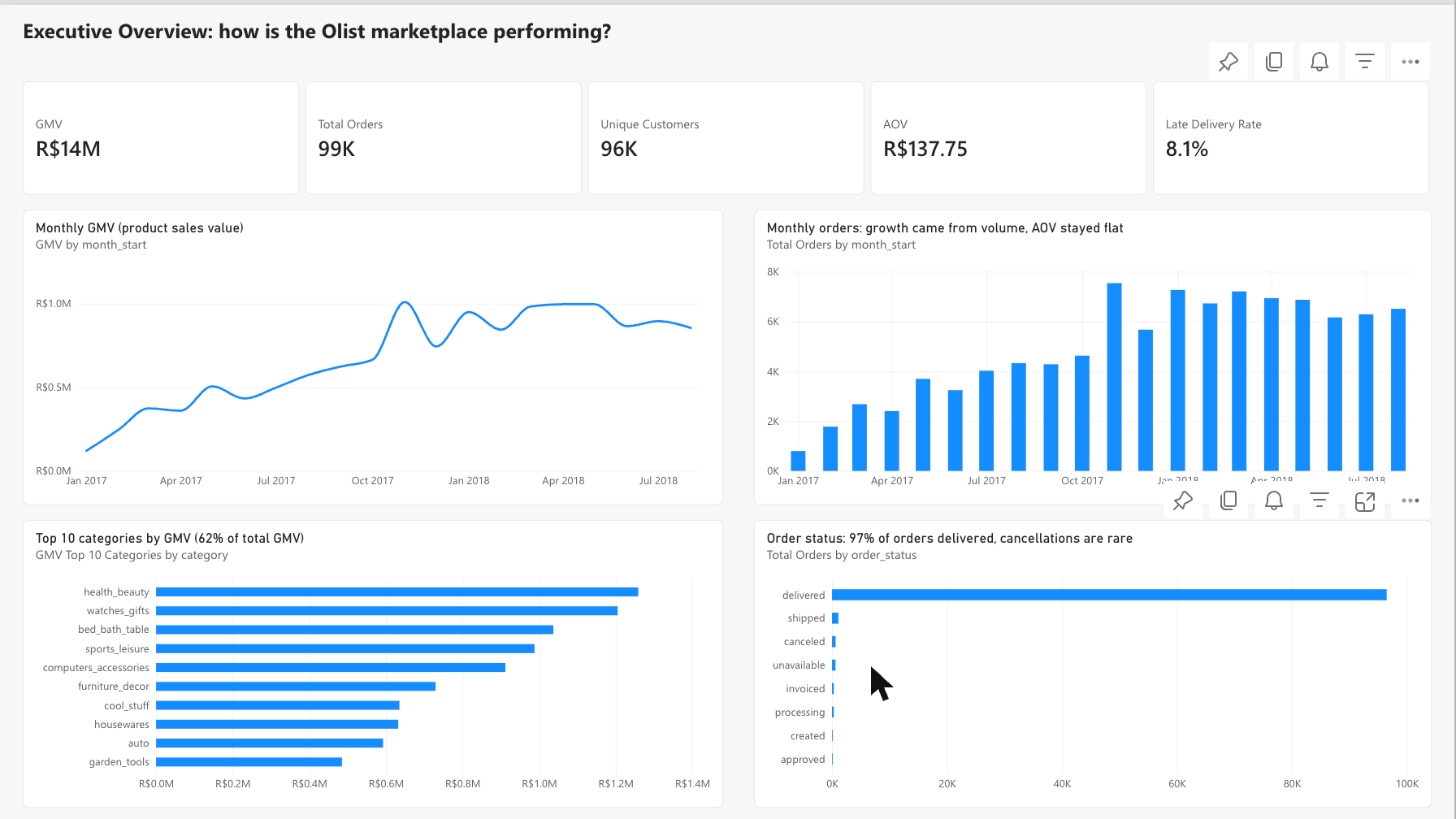

The page's visual inventory and layout, read from the dashboard file:
{"tool":"powerbi","page":{"name":"Executive Overview","canvas":[1920,1080],"ordinal":0},"visuals":[{"type":"cardVisual","fields":{"Data":["orders.GMV","orders.Total Orders","orders.Unique Customers","orders.AOV","orders.Late Delivery Rate"]},"box":[30,100,1860,150],"z":0},{"type":"lineChart","title":"Monthly GMV (product sales value)","fields":{"Category":["months 1.month_start"],"Y":["orders.GMV"]},"box":[30,270,925,390],"z":1},{"type":"clusteredColumnChart","title":"Monthly orders: growth came from volume, AOV stayed flat","fields":{"Category":["months 1.month_start"],"Y":["orders.Total Orders"]},"box":[995,270,895,390],"z":2},{"type":"clusteredBarChart","title":"Top 10 categories by GMV (62% of total GMV)","fields":{"Category":["order_items.category"],"Y":["orders.GMV Top 10 Categories"]},"box":[30,680,925,380],"z":3},{"type":"clusteredBarChart","title":"Order status: 97% of orders delivered, cancellations are rare","fields":{"Category":["orders.order_status"],"Y":["orders.Total Orders"]},"box":[995,680,895,380],"z":4},{"type":"textbox","box":[30,15,1820,75],"z":5}]}

Visuals, with their boxes on the page's 1920x1080 design canvas (x1, y1, x2, y2). These are canvas units, not pixel positions in the 1456x819 screenshot, which may show the page scaled, cropped or inside an application window:
cardVisual - orders.GMV x orders.Total Orders: bbox=(30, 100, 1890, 250)
"Monthly GMV (product sales value)" lineChart: bbox=(30, 270, 955, 660)
"Monthly orders: growth came from volume, AOV stayed flat" clusteredColumnChart: bbox=(995, 270, 1890, 660)
"Top 10 categories by GMV (62% of total GMV)" clusteredBarChart: bbox=(30, 680, 955, 1060)
"Order status: 97% of orders delivered, cancellations are rare" clusteredBarChart: bbox=(995, 680, 1890, 1060)
textbox: bbox=(30, 15, 1850, 90)
